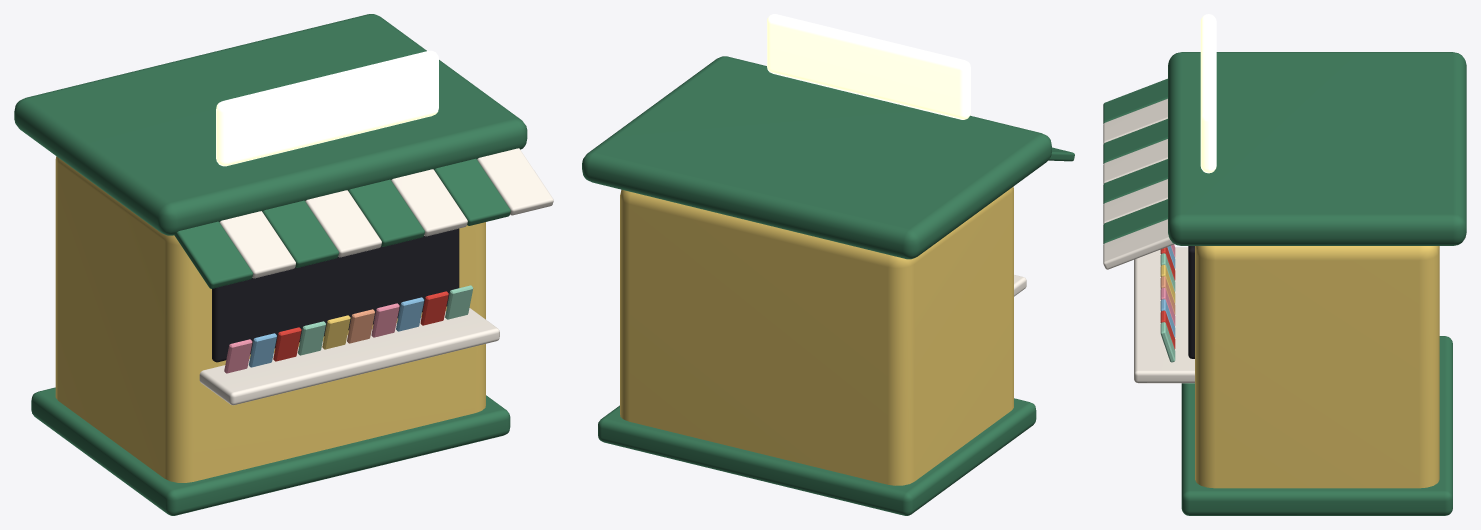
File: kiosk.glb
The picture shows the model from 3 angles, left to right: view 1: azimuth 30°, elevation 25°; view 2: azimuth 150°, elevation 25°; view 3: azimuth 270°, elevation 25°; orthographic projection. The views are drawn at different scales.
Parts seen in each view (by area): view 1: kiosk; view 2: kiosk; view 3: kiosk.
Boxes of the visible parts, x1,y1,x2,y2 form: kiosk: (14, 14, 553, 515); kiosk: (582, 14, 1074, 515); kiosk: (1103, 14, 1466, 515).
Bounding box in the file's own units: 3 × 3.05 × 2.68.
1 material, 1 textured.
